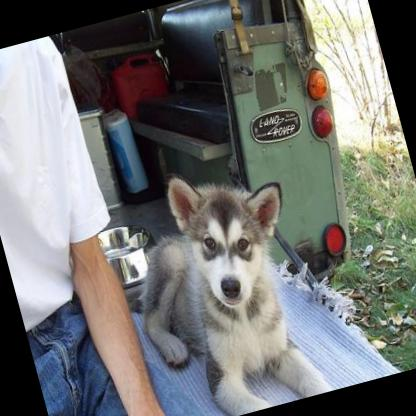malamute: (106, 147, 333, 416)
